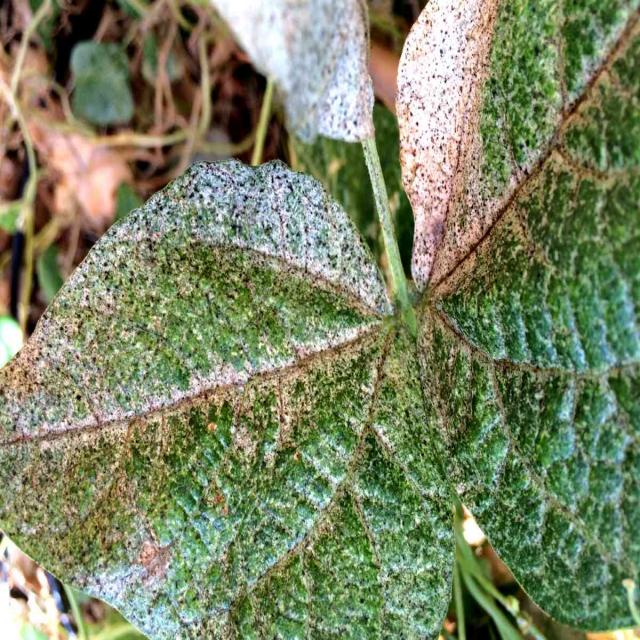Thrip-Group-: (20, 209, 338, 592), (418, 40, 580, 492), (210, 377, 429, 621)
